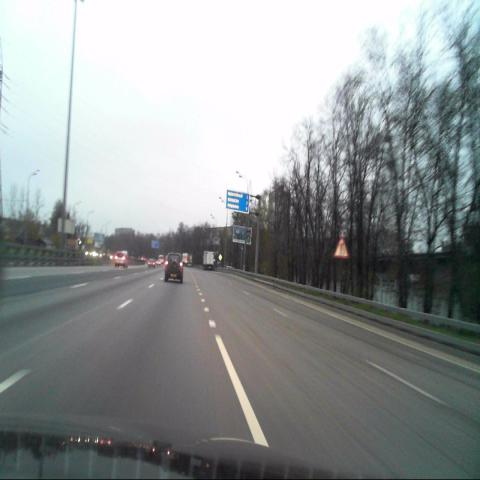1_20_2: (334, 236, 349, 258)
